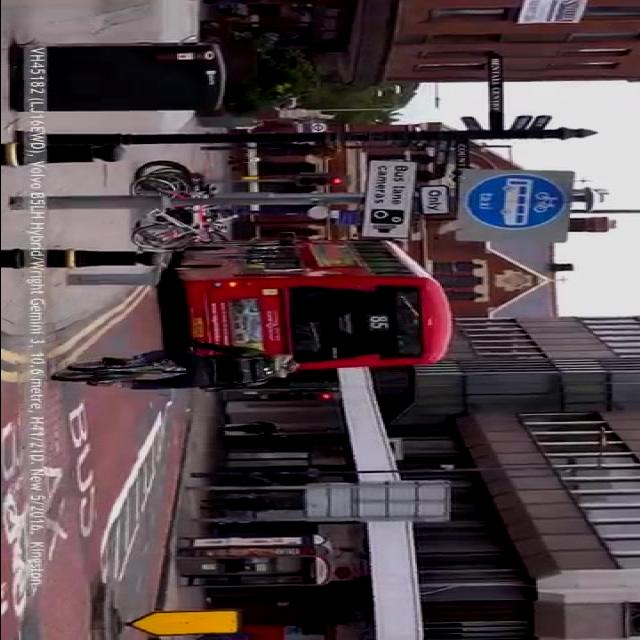bus: (129, 232, 431, 389)
